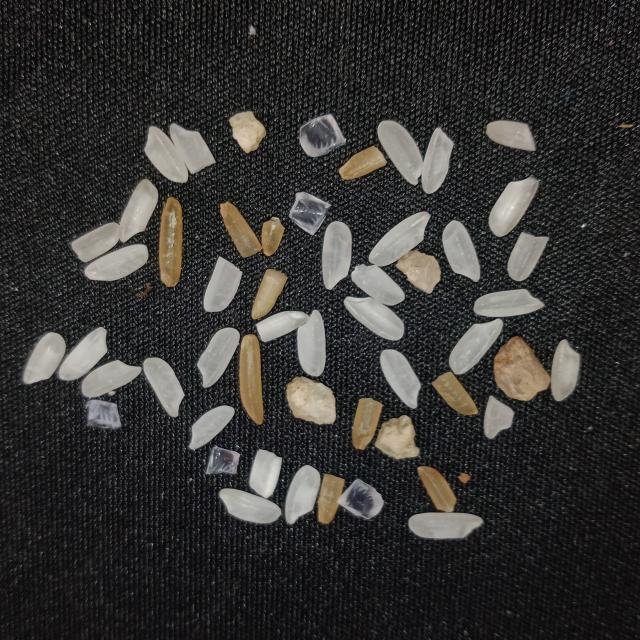Broken: (119, 178, 158, 242), (169, 122, 216, 174), (220, 202, 263, 258), (350, 265, 405, 307), (202, 256, 242, 312), (507, 233, 550, 283), (71, 222, 123, 263), (159, 197, 182, 287), (432, 372, 479, 416), (250, 268, 288, 320), (418, 466, 458, 512), (256, 310, 310, 344), (248, 447, 283, 498), (338, 146, 387, 180), (351, 397, 382, 450), (486, 121, 536, 152), (317, 473, 345, 524), (483, 396, 513, 440), (261, 216, 286, 256)
Full: (368, 212, 430, 267), (488, 177, 540, 238), (450, 319, 504, 376), (378, 120, 424, 186), (58, 327, 109, 381), (345, 296, 406, 341), (196, 327, 239, 389), (144, 125, 189, 184), (143, 357, 186, 417), (379, 349, 421, 409), (443, 219, 481, 282), (81, 359, 142, 398), (87, 246, 151, 282), (22, 332, 66, 384), (238, 333, 262, 424), (220, 488, 282, 523), (323, 221, 354, 291), (422, 127, 454, 194), (285, 465, 321, 524), (189, 404, 235, 450), (408, 513, 483, 540), (474, 290, 545, 318), (298, 310, 327, 378), (551, 339, 580, 402)
